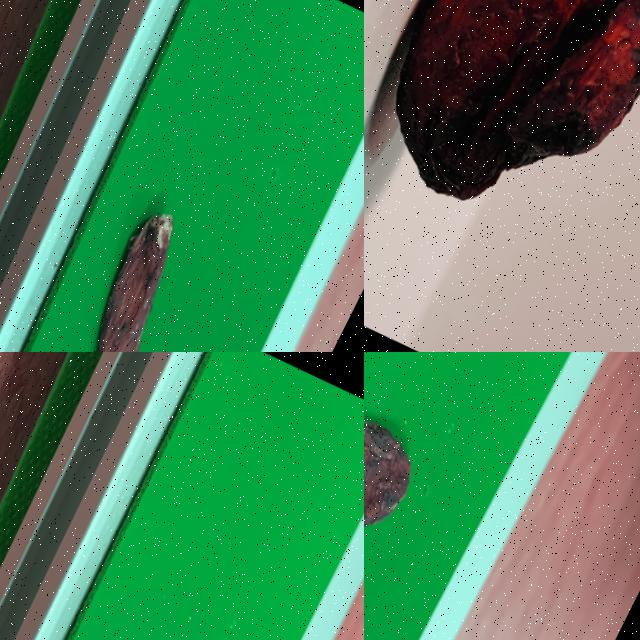Agglomerated_cocoabeans: (364, 0, 639, 351)
Flat_cocoabeans: (24, 127, 265, 351), (364, 352, 508, 639)
